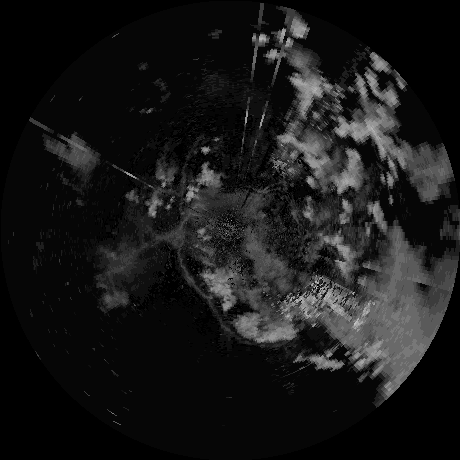frontgust: (205, 299, 261, 348), (176, 243, 212, 298), (177, 151, 193, 225)
